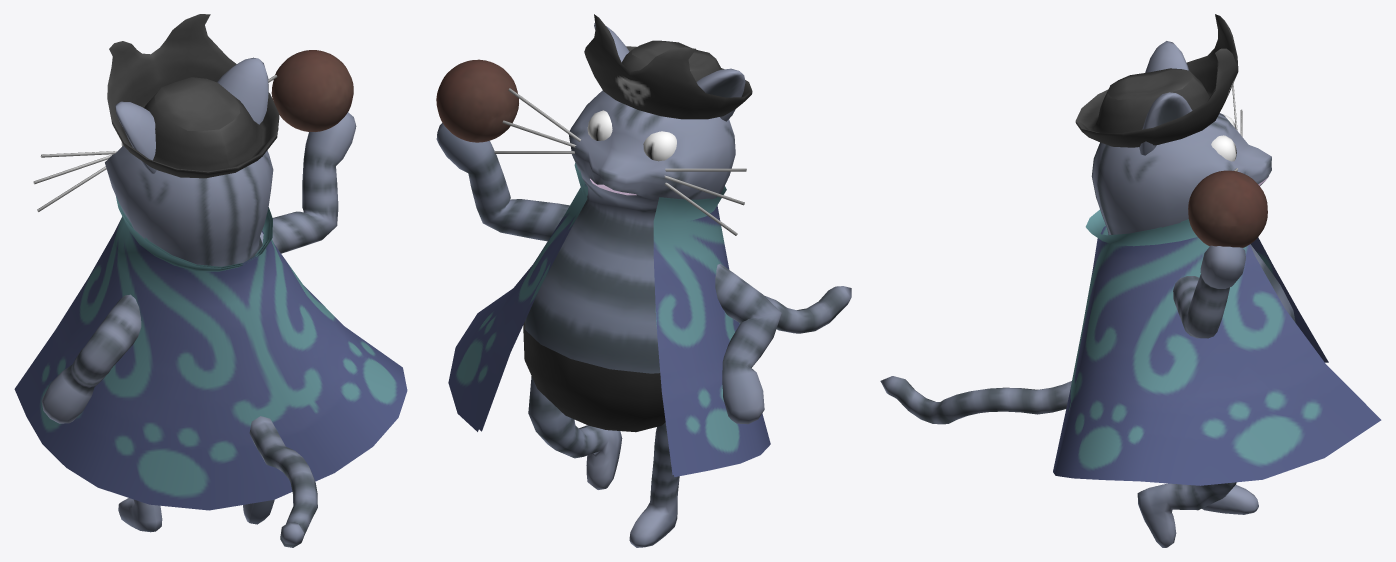
Rendered from neko_walk_b_03.fbx.
The picture shows the model from 3 angles, left to right: view 1: azimuth 30°, elevation 25°; view 2: azimuth 150°, elevation 25°; view 3: azimuth 270°, elevation 25°; orthographic projection. The views are drawn at different scales.
Parts seen in each view (by area): view 1: W_b_03; view 2: W_b_03; view 3: W_b_03.
Part boxes in pixels (x1,y1,x2,y2): W_b_03: [14, 14, 407, 547]; W_b_03: [436, 14, 851, 547]; W_b_03: [880, 14, 1381, 547].
Size of the model in its own units: 1.33 by 1.98 by 1.84.
1 material, 1 textured.
